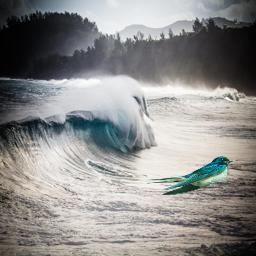Swallow: (145, 156, 233, 196)
